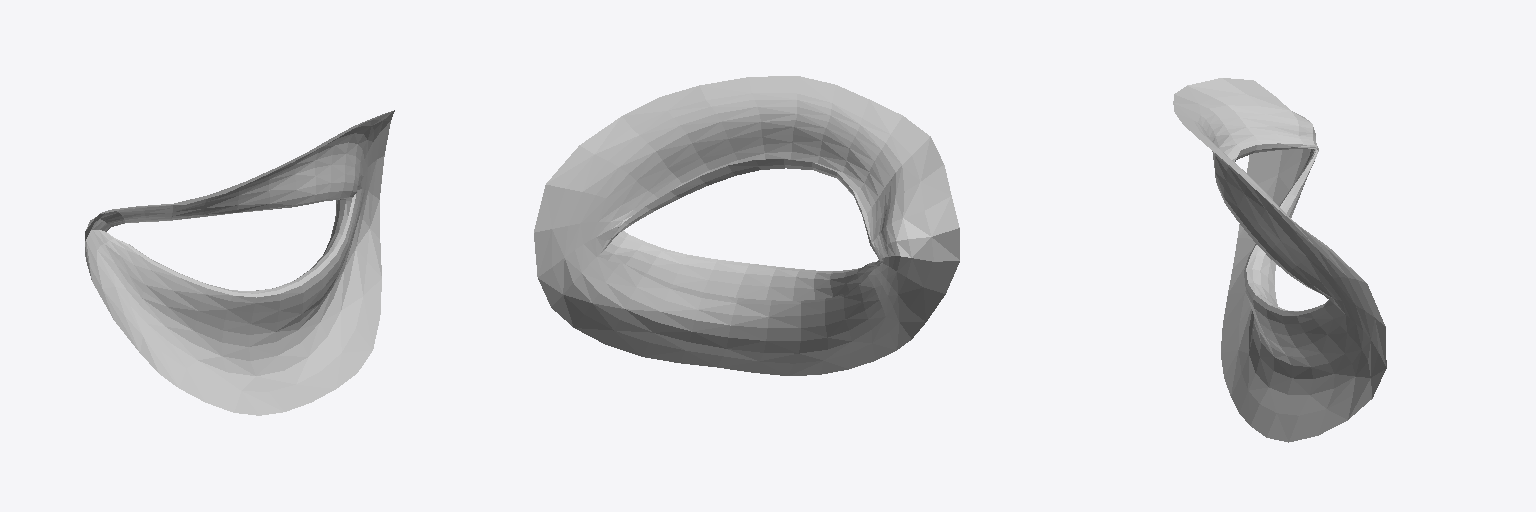
Rendered from orbicularis_oculi_pretarsal_left.obj.
3 renders of one model, left to right at view 1: azimuth 30°, elevation 25°; view 2: azimuth 150°, elevation 25°; view 3: azimuth 270°, elevation 25°, orthographic.
Parts seen in each view (by area): view 1: Orbicularis_Oculi_Muscle_left_Orbicularis_Oculi_Muscle_Right.003; view 2: Orbicularis_Oculi_Muscle_left_Orbicularis_Oculi_Muscle_Right.003; view 3: Orbicularis_Oculi_Muscle_left_Orbicularis_Oculi_Muscle_Right.003.
Boxes of the visible parts, x1=… form: Orbicularis_Oculi_Muscle_left_Orbicularis_Oculi_Muscle_Right.003: x1=85, y1=110, x2=394, y2=415; Orbicularis_Oculi_Muscle_left_Orbicularis_Oculi_Muscle_Right.003: x1=534, y1=76, x2=959, y2=375; Orbicularis_Oculi_Muscle_left_Orbicularis_Oculi_Muscle_Right.003: x1=1173, y1=78, x2=1386, y2=442.
Bounding box in the file's own units: 0.4633 × 0.3423 × 0.2359.